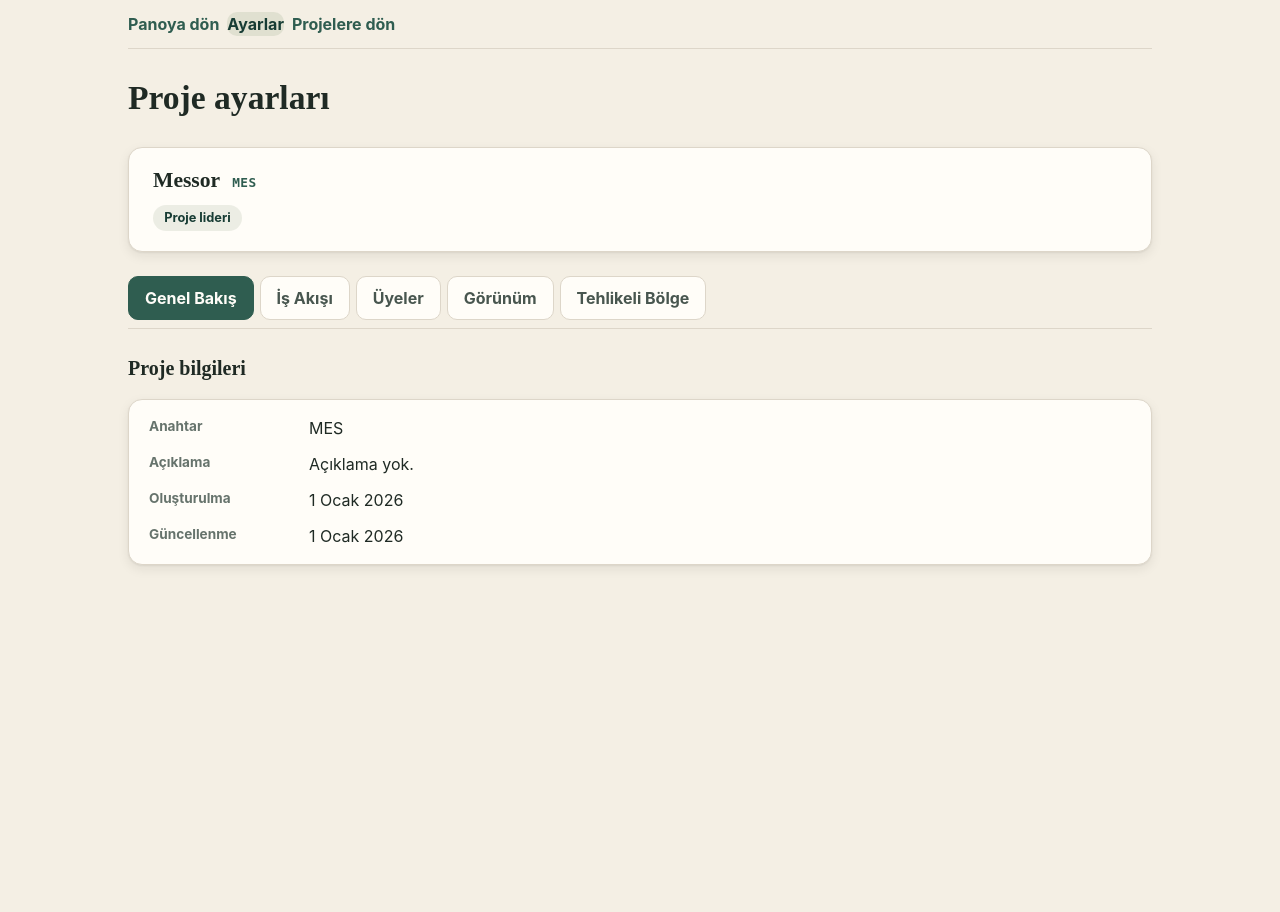
Test case: ProjectSettingsPage › page states › renders each member name, email and role in an accessible list
Click the tab "Üyeler" at [398, 298], box [356,276,441,320]
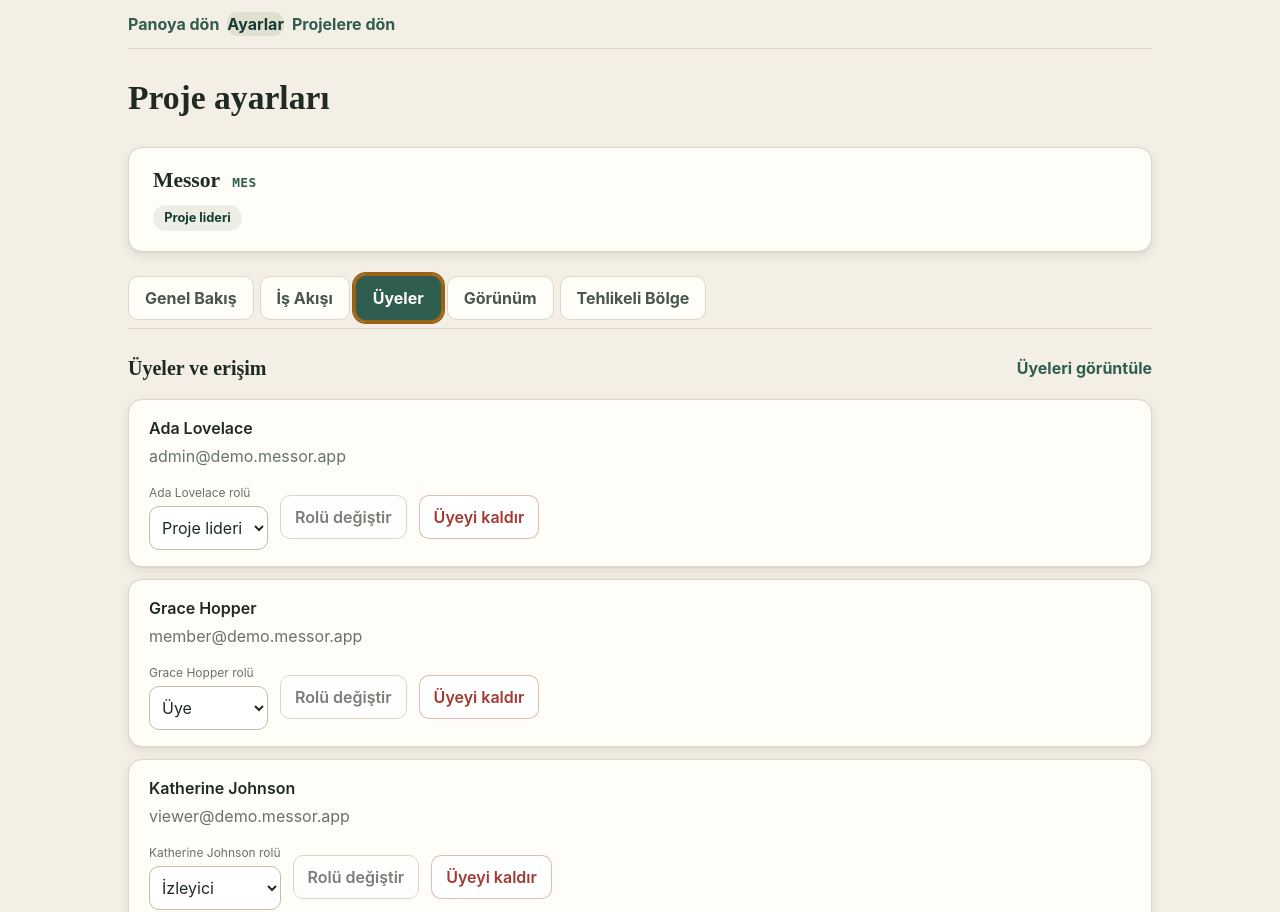
Now the text "Ada Lovelace" is shown, box [149,418,253,438]
Now the text "admin@demo.messor.app" is shown, box [149,446,346,466]
Now the text "Grace Hopper" is shown, box [149,598,257,618]
